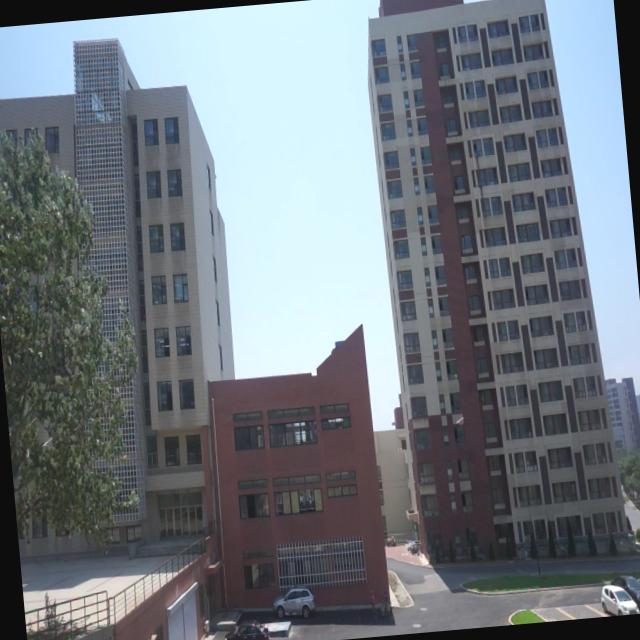drone: (452, 408, 468, 432)
